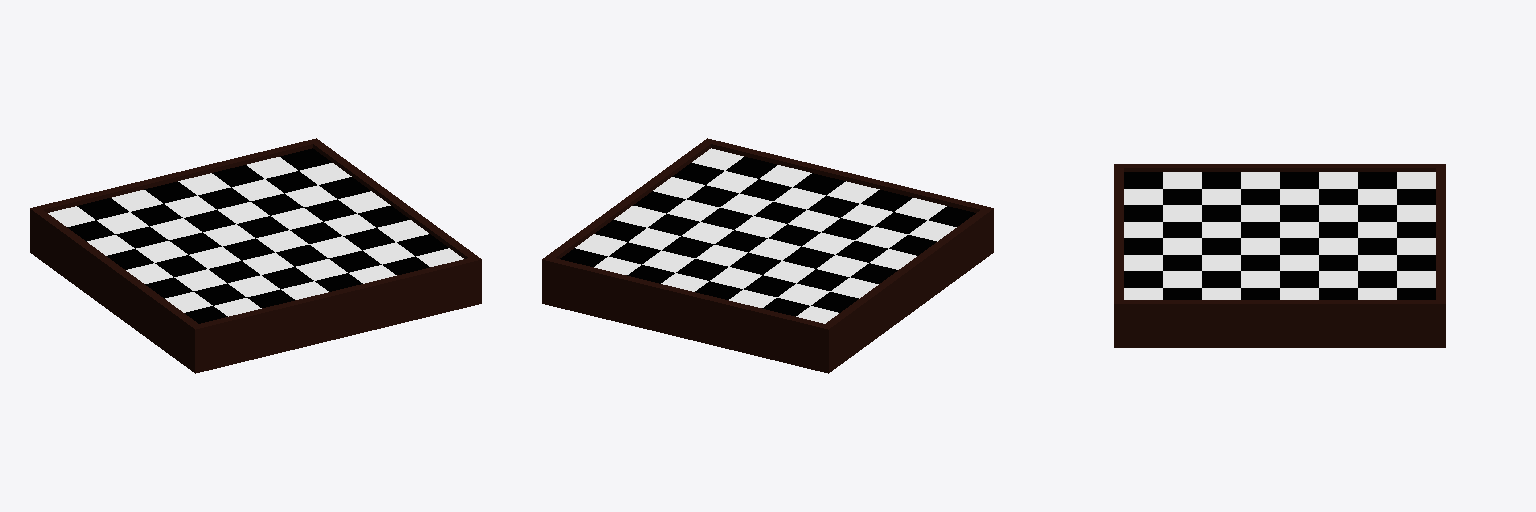
The picture shows the model from 3 angles: view 1: azimuth 30°, elevation 25°; view 2: azimuth 150°, elevation 25°; view 3: azimuth 270°, elevation 25°; orthographic projection.
Visible parts, largest first — view 1: group[number redacted], group[number redacted], group[number redacted], group[number redacted], group[number redacted], group[number redacted], group[number redacted], group[number redacted], group[number redacted], group[number redacted], group[number redacted], group[number redacted] (+28 smaller); view 2: group[number redacted], group[number redacted], group[number redacted], group[number redacted], group[number redacted], group[number redacted], group[number redacted], group[number redacted], group[number redacted], group[number redacted], group[number redacted], group[number redacted] (+28 smaller); view 3: group[number redacted], group[number redacted], group[number redacted], group[number redacted], group[number redacted], group[number redacted], group[number redacted], group[number redacted], group[number redacted], group[number redacted], group[number redacted], group[number redacted] (+28 smaller).
Part boxes in pixels (bbox=[...]): group[number redacted]: bbox=[200, 256, 481, 370]; group[number redacted]: bbox=[35, 210, 203, 373]; group[number redacted]: bbox=[30, 141, 312, 255]; group[number redacted]: bbox=[310, 139, 476, 258]; group[number redacted]: bbox=[276, 245, 328, 266]; group[number redacted]: bbox=[237, 216, 288, 237]; group[number redacted]: bbox=[116, 226, 168, 248]; group[number redacted]: bbox=[189, 247, 240, 268]; group[number redacted]: bbox=[358, 206, 409, 227]; group[number redacted]: bbox=[397, 234, 448, 255]; group[number redacted]: bbox=[309, 236, 361, 257]; group[number redacted]: bbox=[251, 193, 303, 215]; group[number redacted]: bbox=[550, 258, 833, 373]; group[number redacted]: bbox=[826, 206, 993, 368]; group[number redacted]: bbox=[703, 138, 984, 212]; group[number redacted]: bbox=[542, 142, 710, 305]; group[number redacted]: bbox=[735, 216, 786, 237]; group[number redacted]: bbox=[783, 247, 834, 268]; group[number redacted]: bbox=[855, 226, 907, 248]; group[number redacted]: bbox=[575, 234, 626, 255]; group[number redacted]: bbox=[614, 206, 665, 227]; group[number redacted]: bbox=[760, 165, 811, 186]; group[number redacted]: bbox=[720, 193, 772, 215]; group[number redacted]: bbox=[807, 196, 858, 217]; group[number redacted]: bbox=[1124, 300, 1445, 347]; group[number redacted]: bbox=[1114, 164, 1435, 171]; group[number redacted]: bbox=[1114, 168, 1123, 347]; group[number redacted]: bbox=[1436, 164, 1445, 299]; group[number redacted]: bbox=[1163, 271, 1201, 287]; group[number redacted]: bbox=[1163, 238, 1201, 254]; group[number redacted]: bbox=[1241, 238, 1279, 254]; group[number redacted]: bbox=[1241, 271, 1279, 287]; group[number redacted]: bbox=[1124, 238, 1162, 254]; group[number redacted]: bbox=[1202, 238, 1240, 254]; group[number redacted]: bbox=[1124, 271, 1162, 287]; group[number redacted]: bbox=[1202, 271, 1240, 287].
Size of the model in its own units: 0.68 by 0.1 by 0.68.